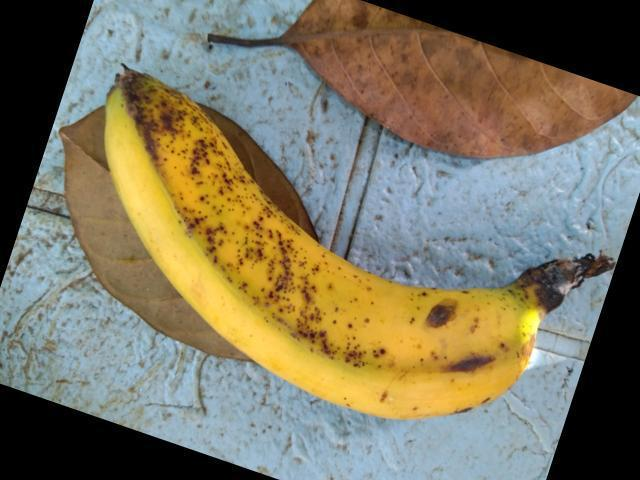ripe: (100, 59, 548, 442)
